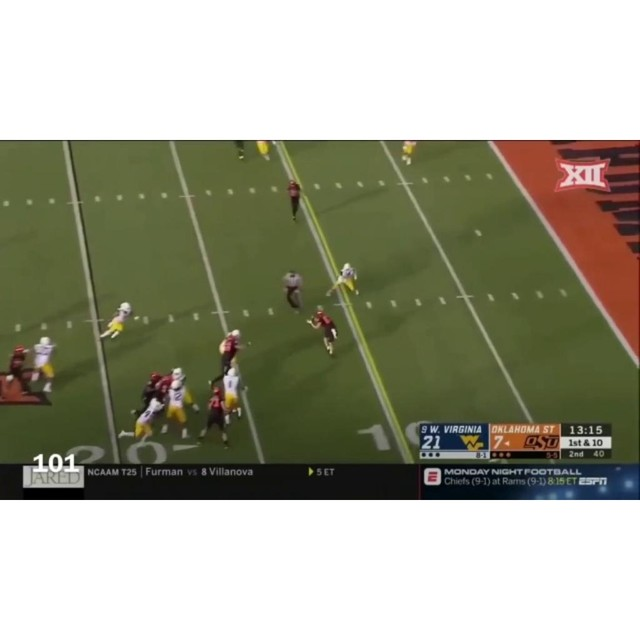american-football-player: (118, 396, 165, 445), (198, 387, 231, 449), (161, 380, 193, 440), (28, 336, 58, 395), (307, 307, 339, 357), (0, 345, 29, 396), (98, 302, 133, 341), (217, 329, 243, 378), (221, 367, 244, 422), (326, 263, 360, 297), (400, 140, 417, 166)
referee: (283, 268, 305, 314), (287, 180, 302, 222)
